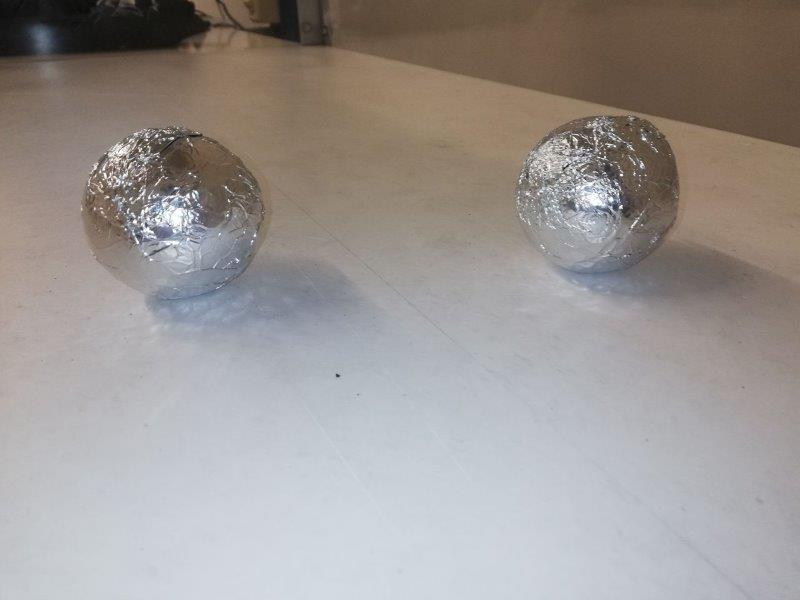bianca: (86, 129, 262, 297), (512, 110, 679, 273)
